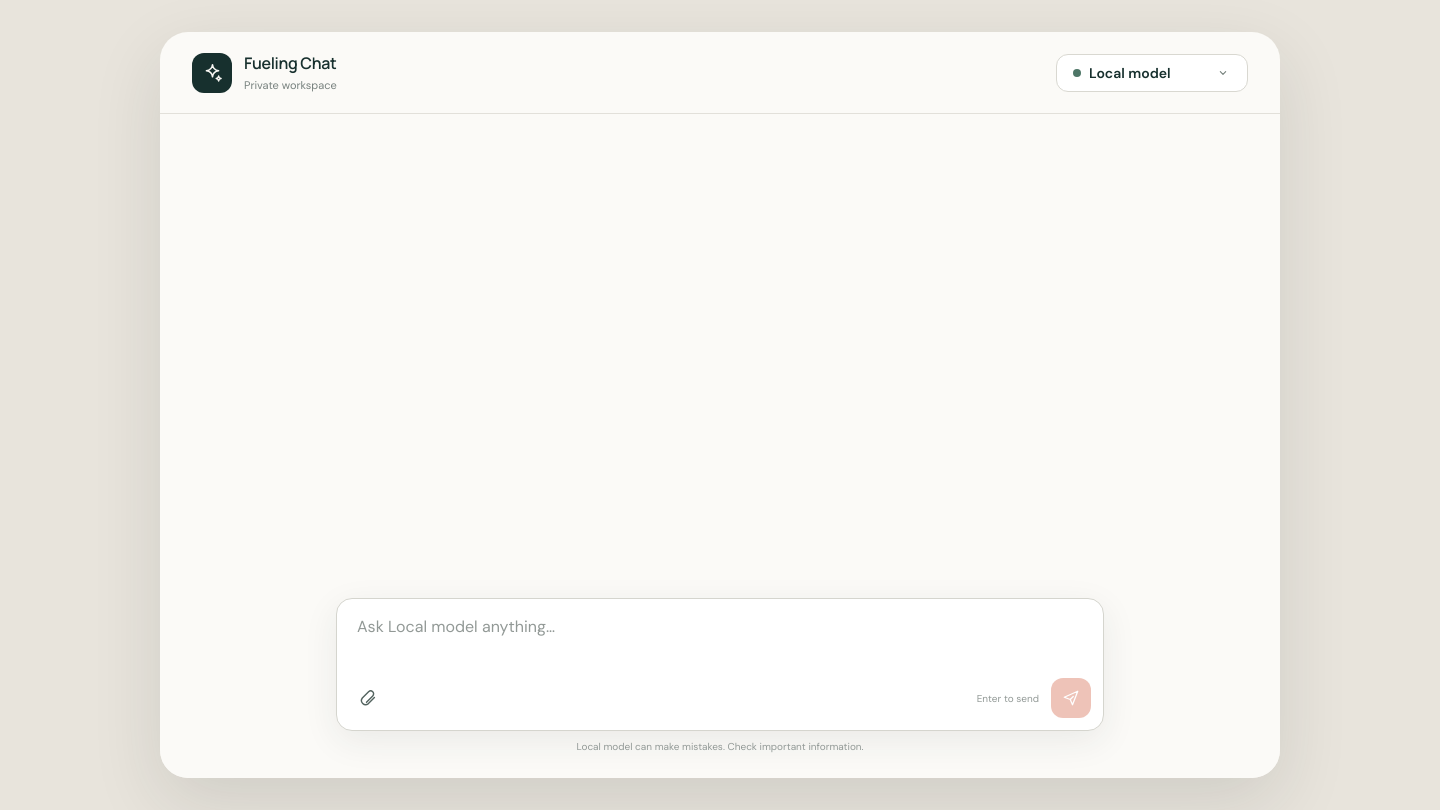
Test: send flow › reflects the active model id in the provider field
Step 1. Click the button "Local model" → click(1152, 72), box [1056, 54, 1248, 92]
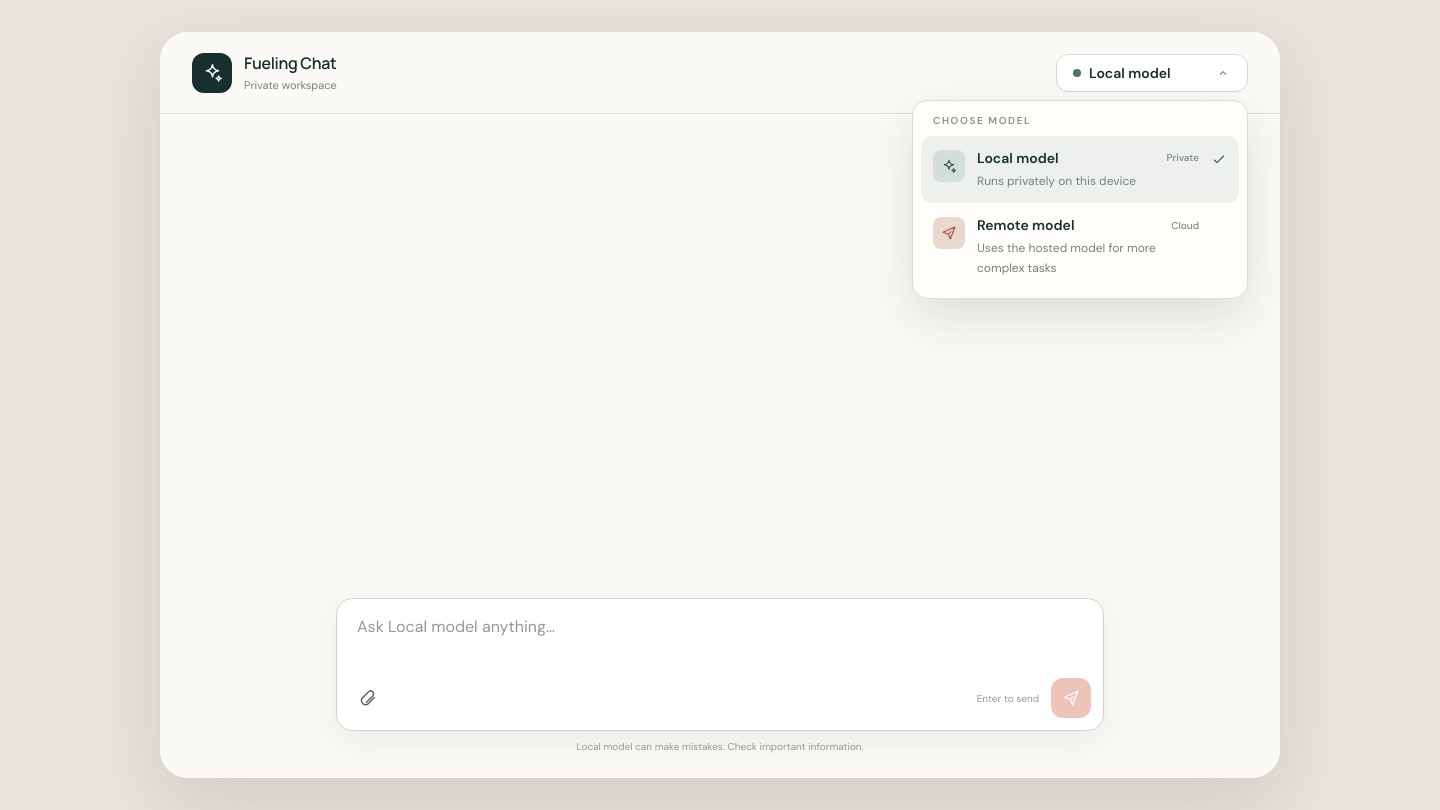
Step 2. Click the option "Remote model" → click(1080, 246), box [921, 203, 1239, 290]
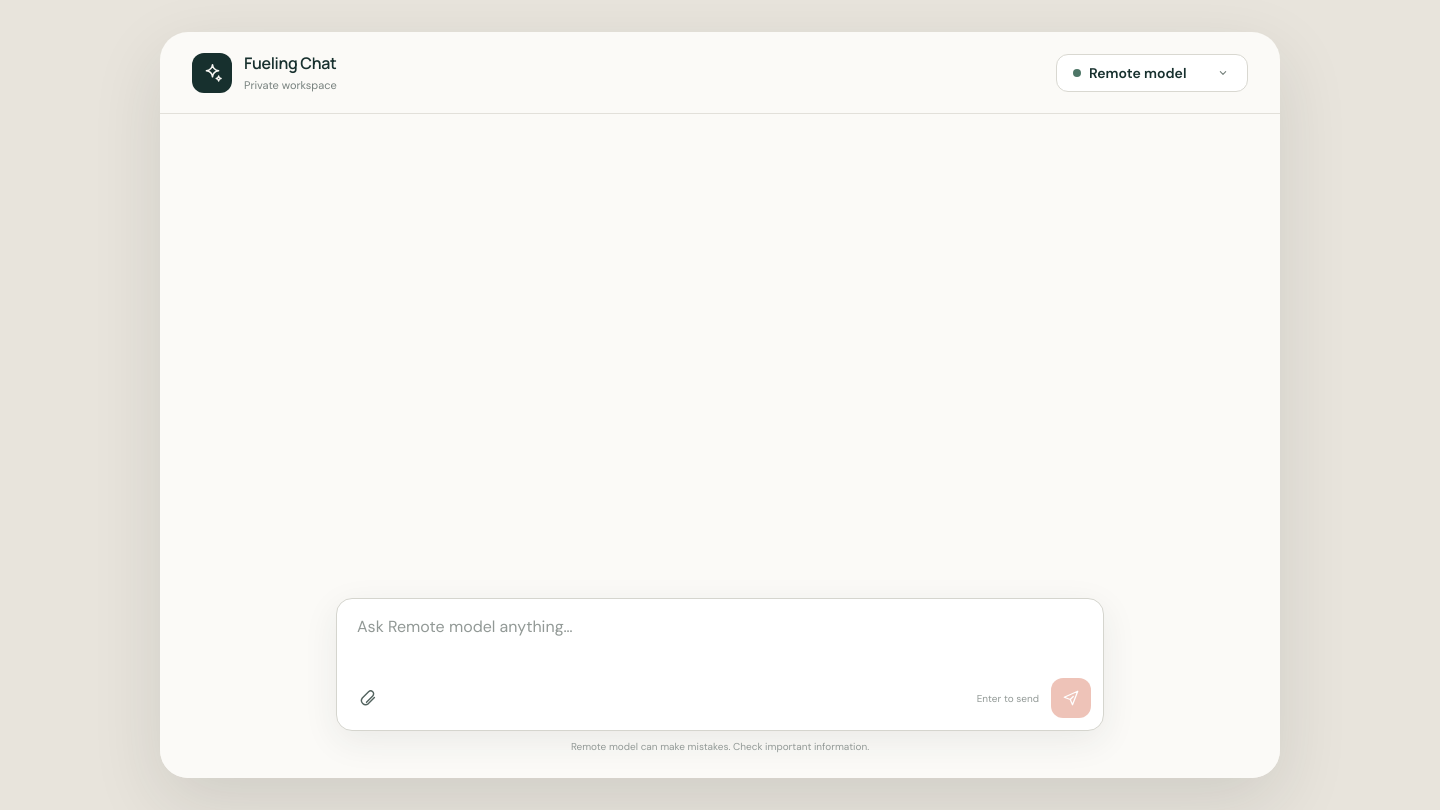
Step 3. Type "Hello" into the text box named "Message" → (720, 639), box [345, 607, 1095, 671]
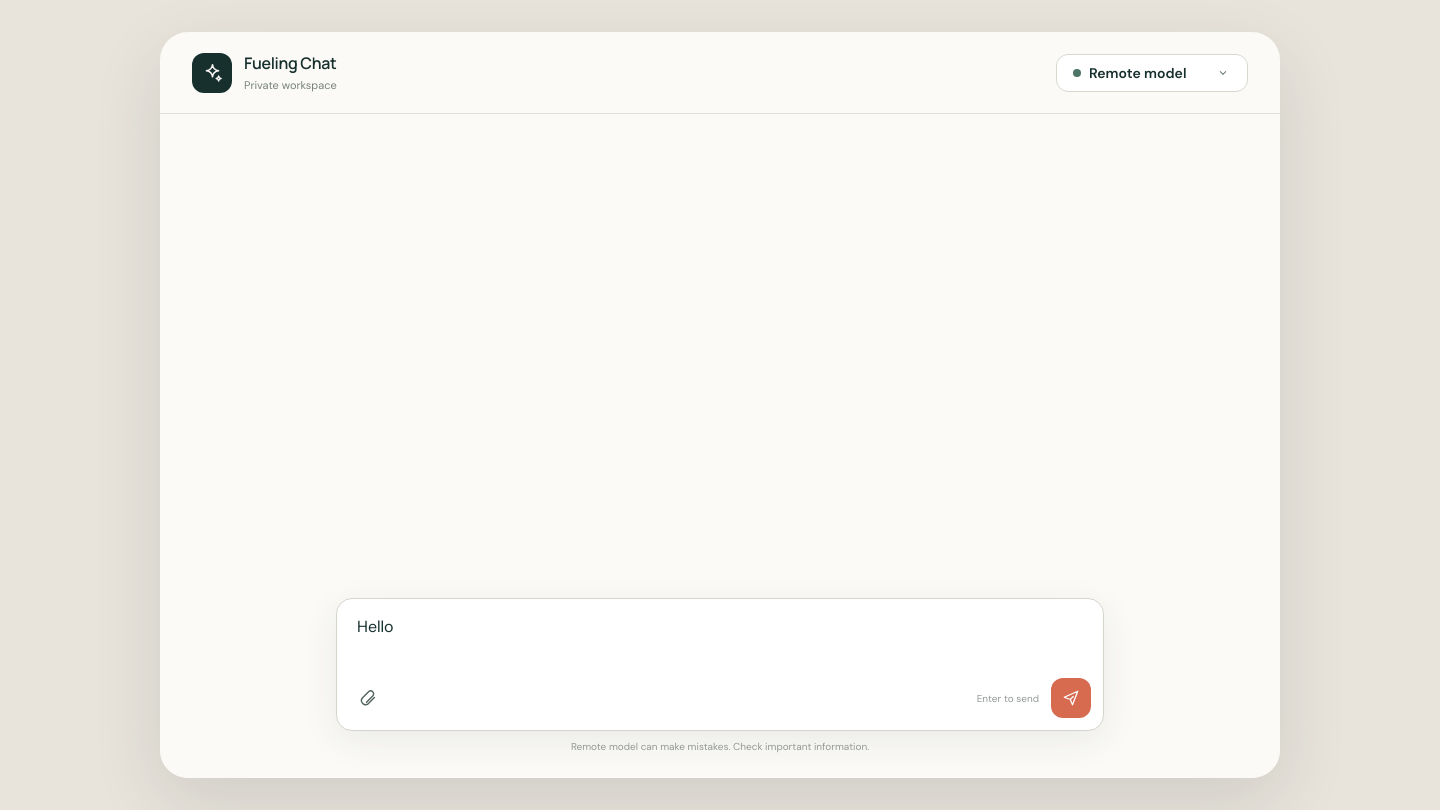
Step 4. Press Enter in the text box named "Message", box [345, 607, 1095, 671]
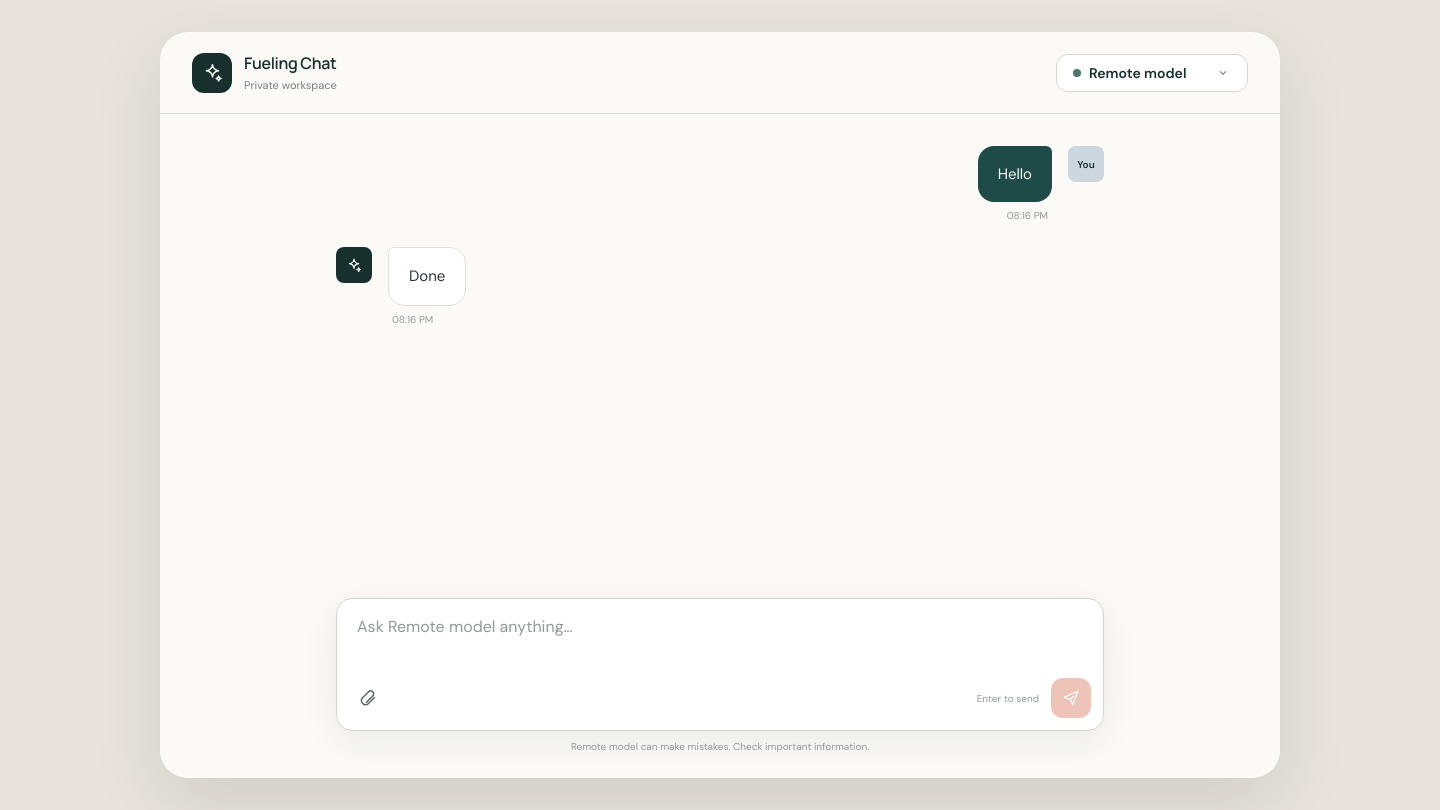
Expected: the text "Done" is shown, [388, 247, 466, 306]
